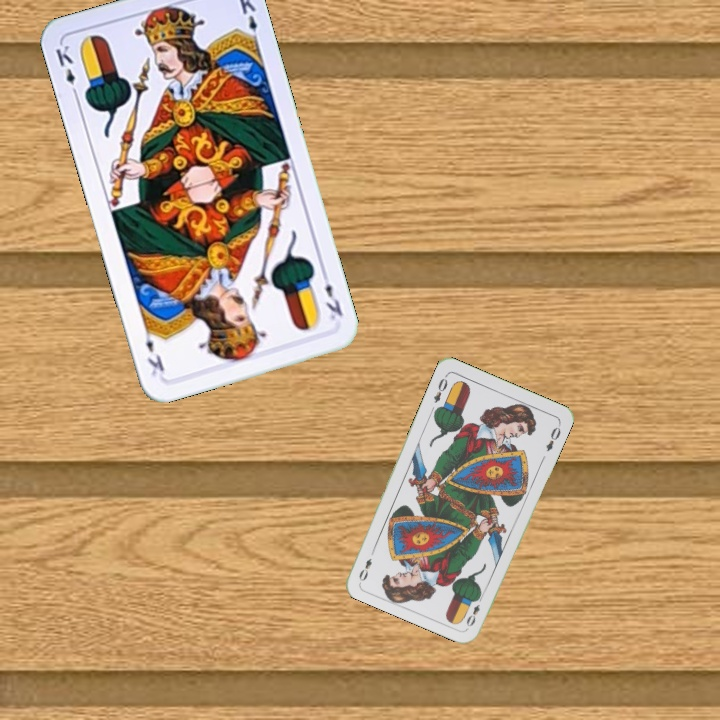EK: (51, 41, 81, 100), (317, 268, 346, 322)
EO: (462, 591, 486, 629), (430, 371, 450, 406)
